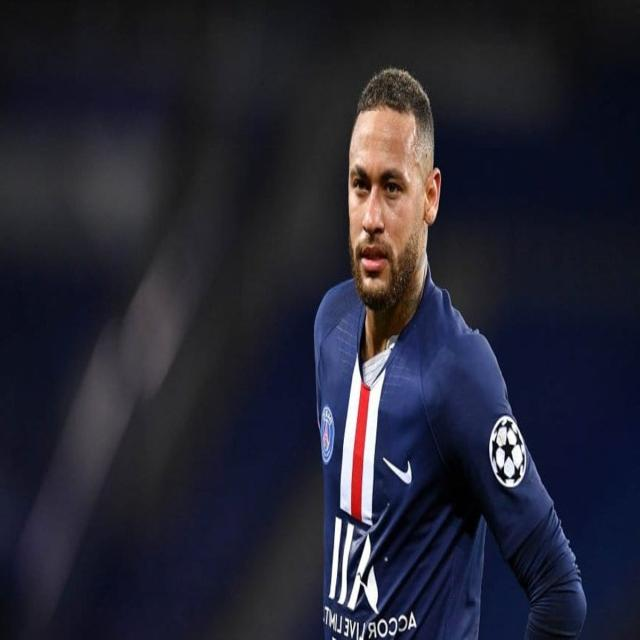nike: (380, 453, 416, 485)
